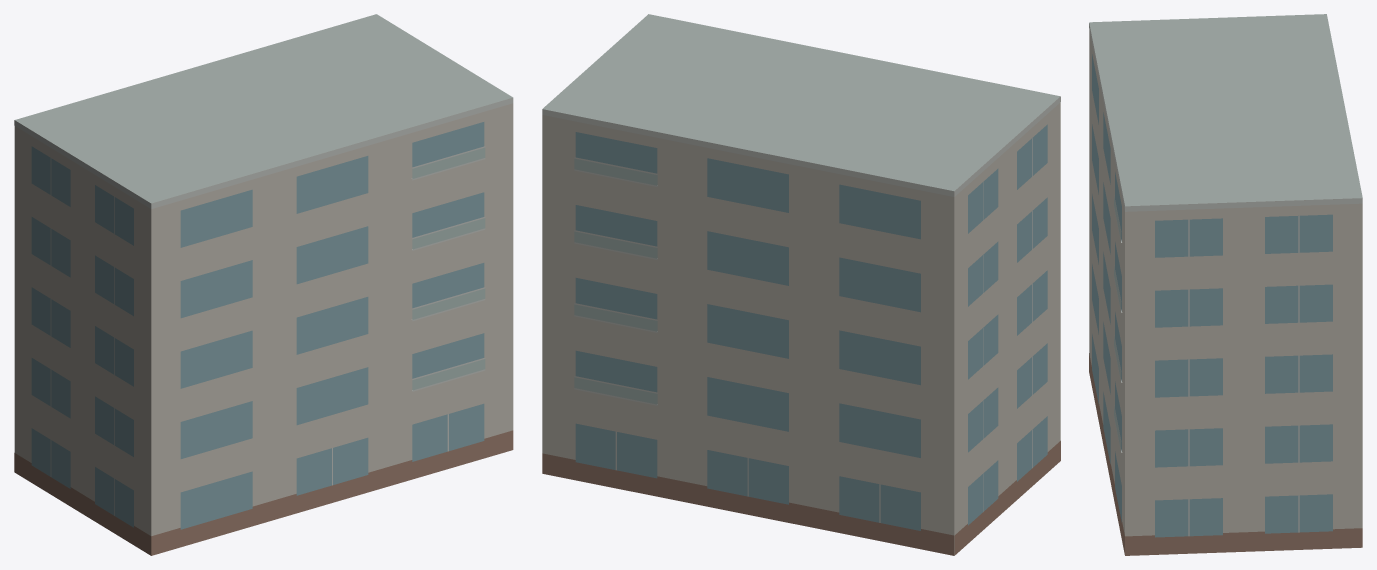
The model's file is survey-upis-32757105.glb.
The picture shows the model from 3 angles, left to right: view 1: azimuth 30°, elevation 25°; view 2: azimuth 150°, elevation 25°; view 3: azimuth 270°, elevation 25°; orthographic projection. The views are drawn at different scales.
Visible parts, largest first — view 1: survey-upis-32757105.tmp; view 2: survey-upis-32757105.tmp; view 3: survey-upis-32757105.tmp.
Boxes of the visible parts, x1,y1,x2,y2 form: survey-upis-32757105.tmp: (14,14,513,555); survey-upis-32757105.tmp: (542,14,1060,555); survey-upis-32757105.tmp: (1089,14,1362,555).
Size of the model in its own units: 18 by 15.25 by 10.83.
